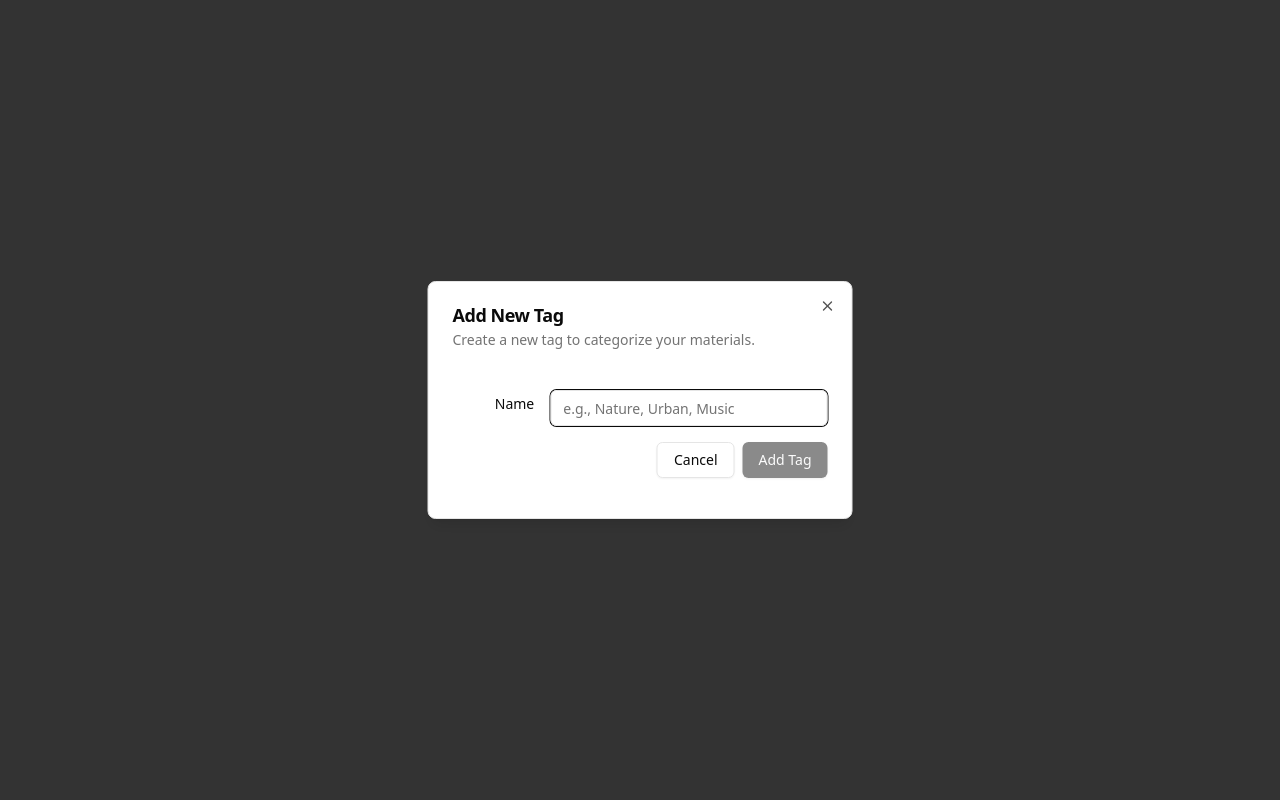
it: TagFormModal › shows generic API error message for other failures
This screenshot has width=1280, height=800.
Type "Test Tag" into the field labelled "Name".
click(689, 408); type("Test Tag")  # box [550, 390, 828, 426]
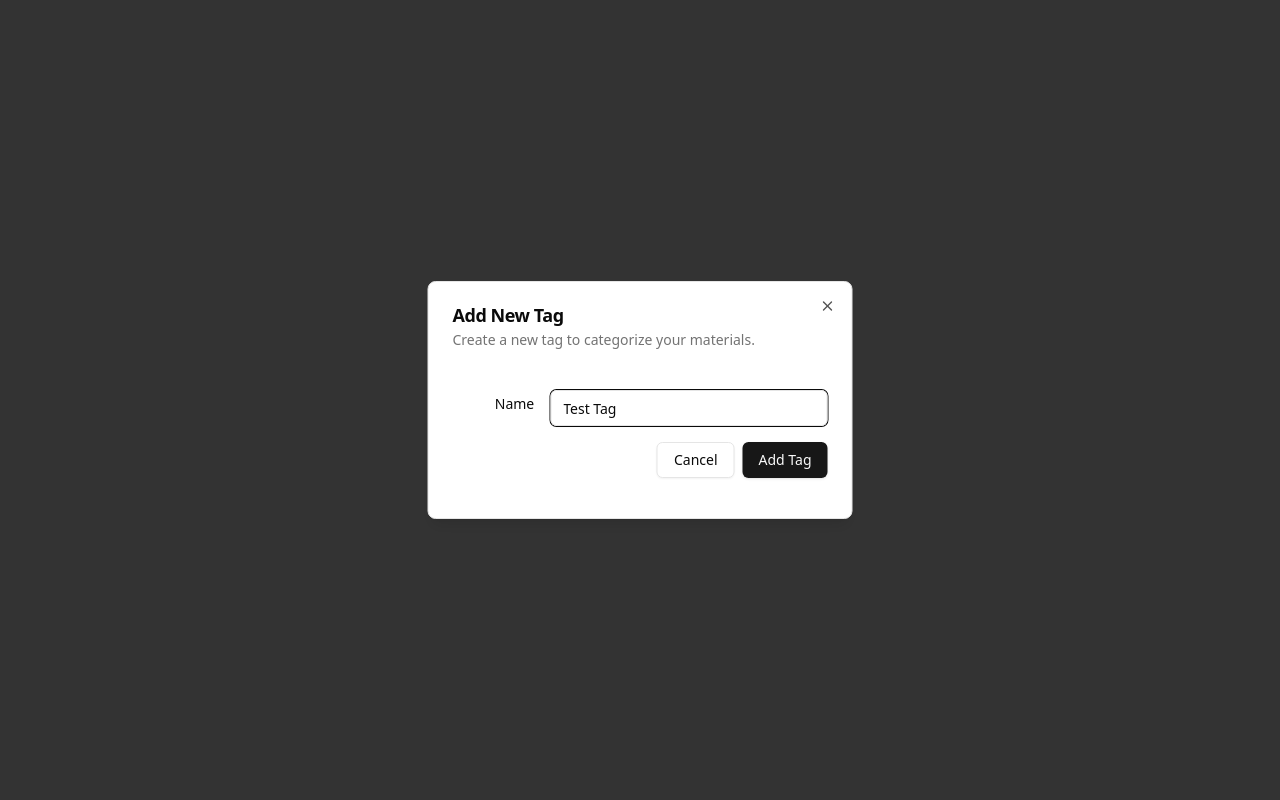
Click the button "Add Tag".
click(785, 460)  # box [743, 442, 828, 478]
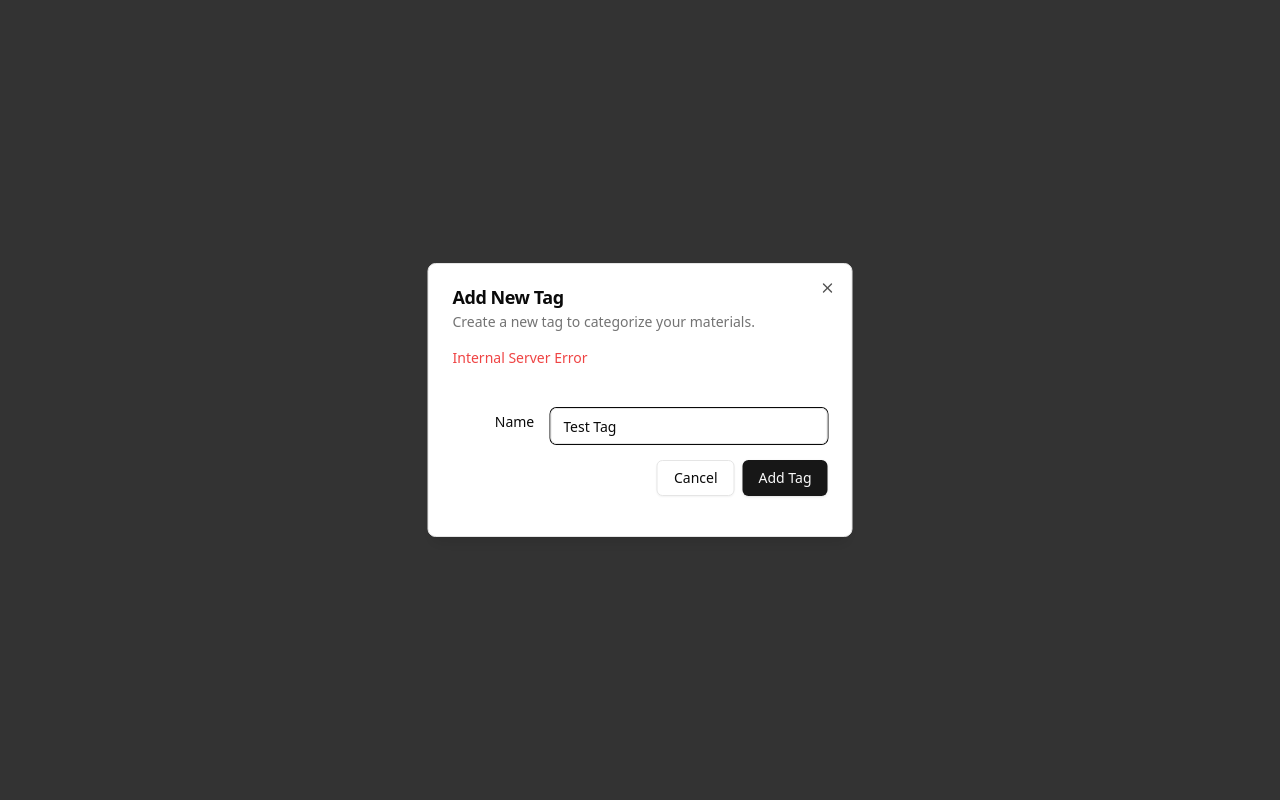
Result: the text "Internal Server Error" is shown at [452, 348, 588, 367]
